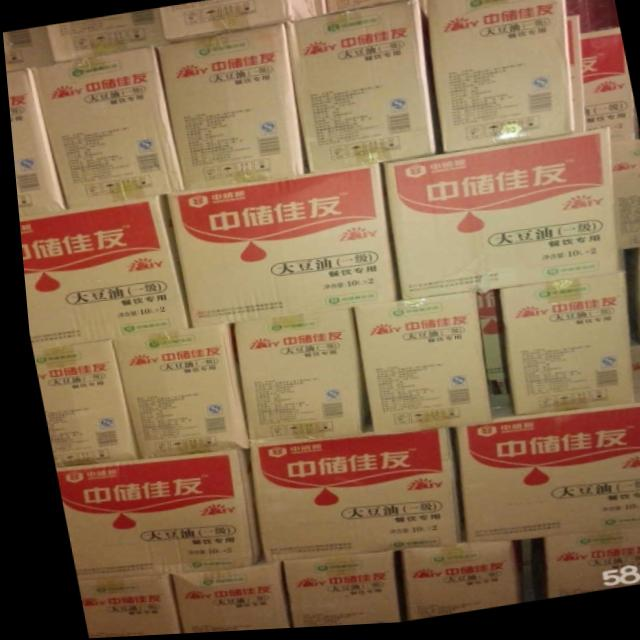box: (378, 132, 619, 305), (160, 166, 392, 328), (239, 417, 451, 565), (448, 384, 640, 547), (429, 0, 618, 156), (46, 451, 250, 581), (15, 195, 184, 349), (286, 1, 435, 175), (155, 23, 304, 191), (28, 46, 181, 208), (487, 278, 628, 420), (345, 296, 482, 438), (224, 311, 359, 447), (105, 324, 239, 460), (25, 338, 131, 467), (388, 542, 515, 624), (273, 553, 390, 630), (159, 563, 277, 635), (5, 68, 62, 215), (528, 532, 640, 604), (158, 0, 319, 44), (66, 574, 169, 639), (579, 32, 635, 150), (46, 9, 163, 63), (606, 145, 640, 256), (470, 294, 498, 386), (2, 26, 55, 71), (616, 253, 640, 352), (322, 0, 433, 17), (314, 0, 327, 19)
